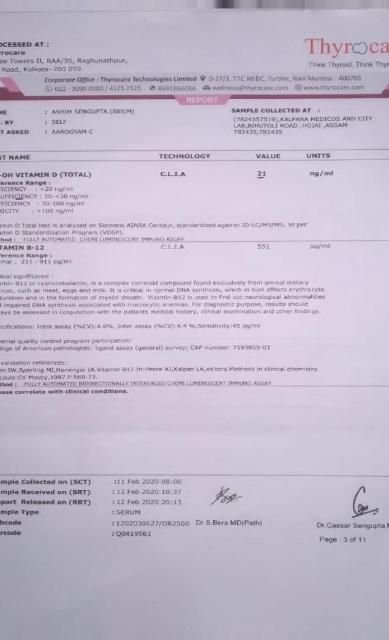Clinical_Conditions: (0, 273, 334, 318)
Name: (50, 107, 136, 115)
Ref_By: (50, 118, 69, 126)
Technology: (159, 169, 188, 182), (159, 242, 188, 254)
Test_Asked: (51, 128, 96, 136)
Test_Name: (1, 171, 94, 218), (0, 243, 76, 269)
Unit: (308, 169, 337, 180), (309, 241, 333, 253)
Value: (255, 241, 277, 252), (256, 169, 271, 182)
